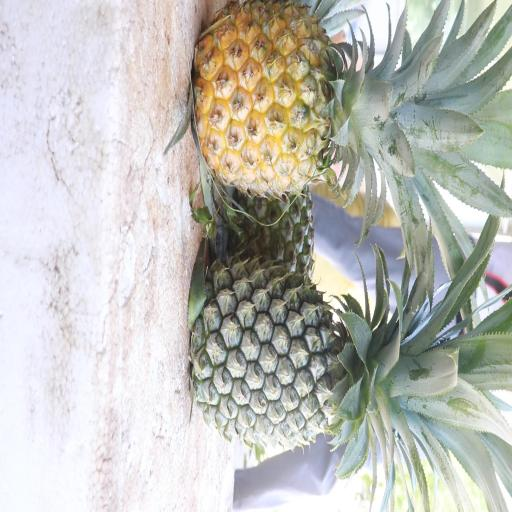Pineapple - v8 v1: (184, 0, 436, 205)
